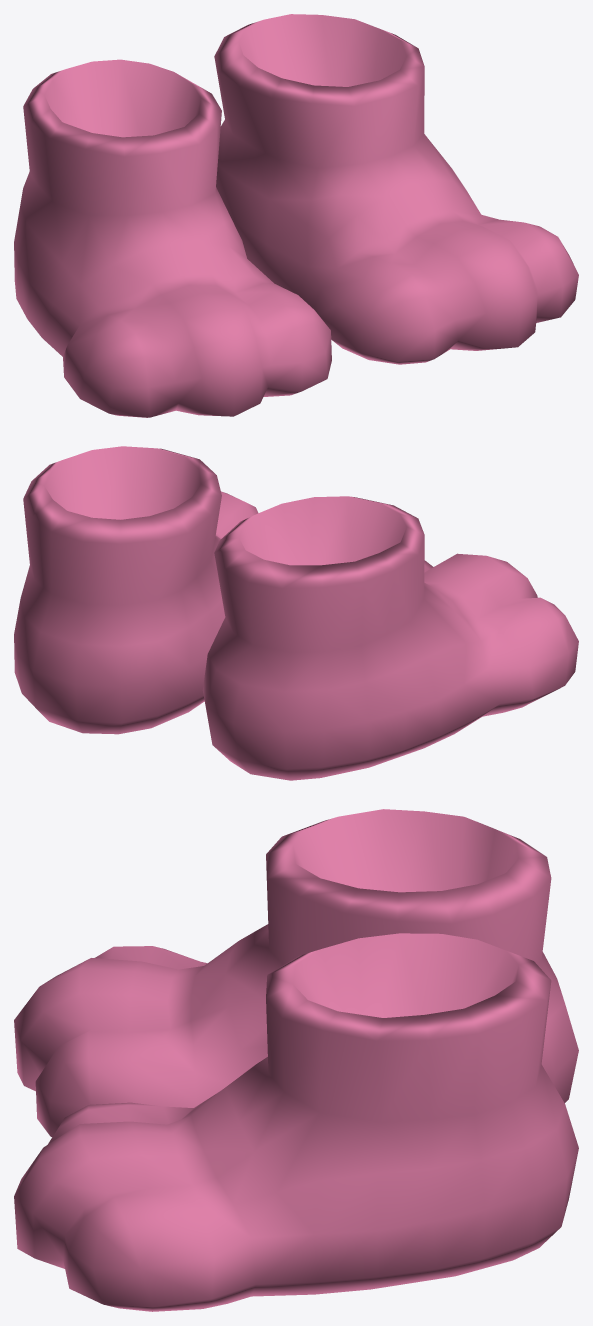
File: ShoesLowcutAnimal0.glb
3 renders of one model, top to bottom at view 1: azimuth 30°, elevation 25°; view 2: azimuth 150°, elevation 25°; view 3: azimuth 270°, elevation 25°, orthographic. The views are drawn at different scales.
Parts seen in each view (by area): view 1: Body__mShoes; view 2: Body__mShoes; view 3: Body__mShoes.
Part boxes in pixels (left/top/right/bottom): Body__mShoes: left=14, top=14, right=578, bottom=417; Body__mShoes: left=14, top=446, right=578, bottom=780; Body__mShoes: left=14, top=809, right=578, bottom=1311.
Bounding box in the file's own units: 4.07 × 1.66 × 3.24.
Materials: 1 (1 with a texture image).
